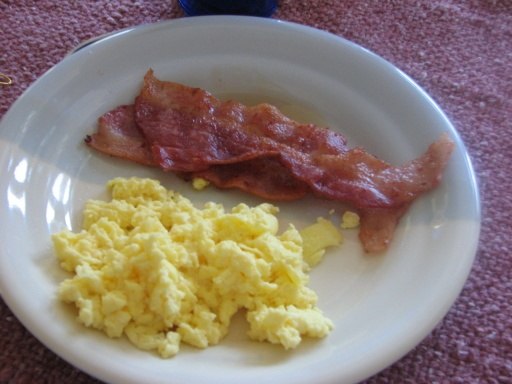background: (67, 39, 363, 152), (42, 106, 275, 215)
